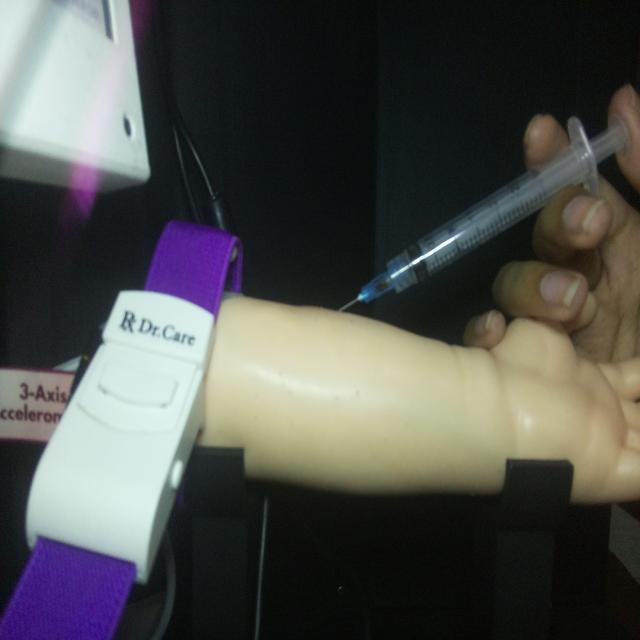22 degrees: (336, 109, 631, 314)
